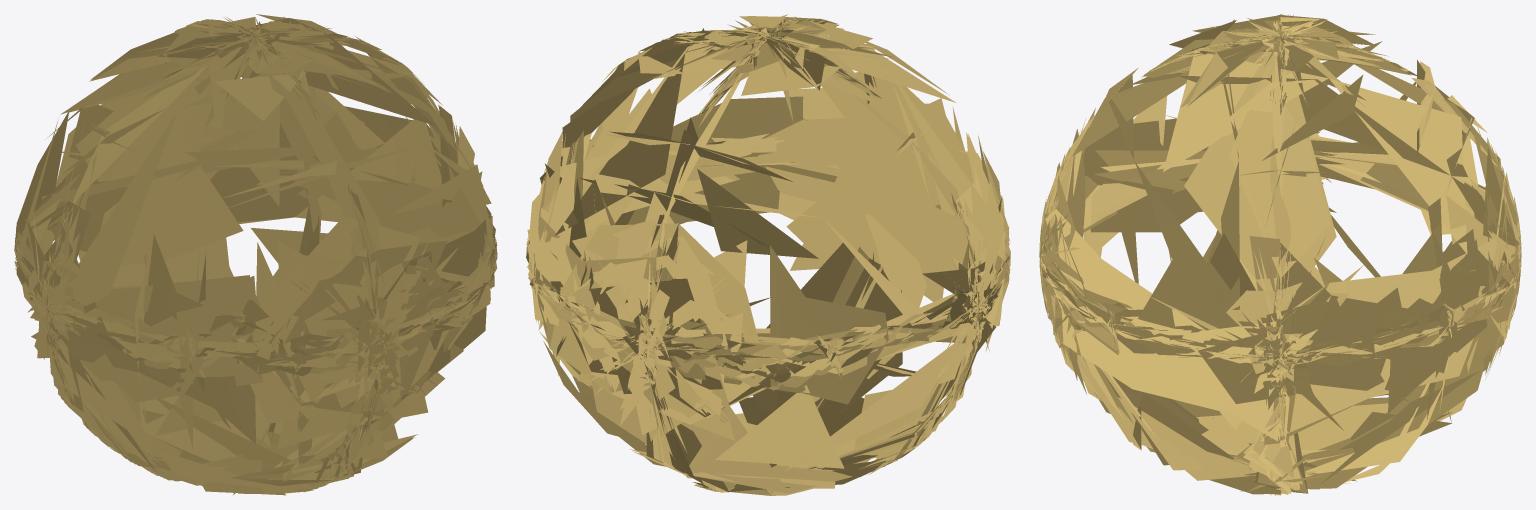
Rendered from sys-dsf-electrical.glb.
The picture shows the model from 3 angles, left to right: view 1: azimuth 30°, elevation 25°; view 2: azimuth 150°, elevation 25°; view 3: azimuth 270°, elevation 25°; orthographic projection.
Visible parts, largest first — view 1: TS-dsf-electrical-1674, TS-dsf-electrical-1672, TS-dsf-electrical-1675, TS-dsf-electrical-1679; view 2: TS-dsf-electrical-1674, TS-dsf-electrical-1672, TS-dsf-electrical-1675, TS-dsf-electrical-1679; view 3: TS-dsf-electrical-1674, TS-dsf-electrical-1675, TS-dsf-electrical-1672, TS-dsf-electrical-1679.
Part boxes in pixels (x1,y1,x2,y2): TS-dsf-electrical-1674: (14, 14, 497, 495); TS-dsf-electrical-1672: (14, 21, 495, 491); TS-dsf-electrical-1675: (15, 19, 497, 491); TS-dsf-electrical-1679: (27, 17, 493, 494); TS-dsf-electrical-1674: (526, 14, 1010, 495); TS-dsf-electrical-1672: (529, 18, 1010, 490); TS-dsf-electrical-1675: (526, 20, 1010, 492); TS-dsf-electrical-1679: (550, 19, 1008, 469); TS-dsf-electrical-1674: (1039, 14, 1521, 495); TS-dsf-electrical-1675: (1039, 14, 1521, 495); TS-dsf-electrical-1672: (1039, 18, 1521, 491); TS-dsf-electrical-1679: (1040, 18, 1521, 480).
Bounding box in the file's own units: 2 × 2 × 2.
